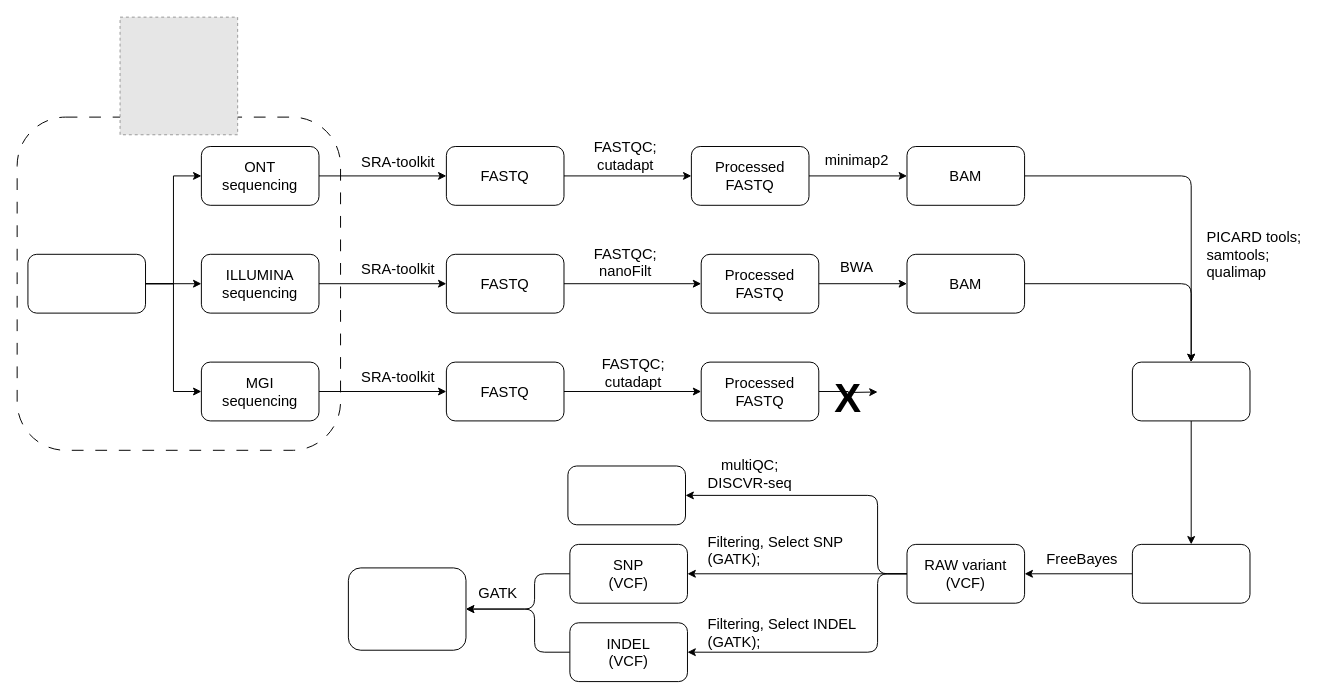
Image size: 1330x699. Some labels were removed from this diagram. Grey dashed boxes stand in for pictures. Each missing label, with the box of its shape:
ASFV samples: (27, 253, 146, 313)
High confident Variant (TSV): (347, 567, 466, 650)
QC reports (HTML): (567, 465, 686, 525)
sample BAM: (1131, 361, 1250, 421)
Variant call set: (1131, 543, 1250, 603)
